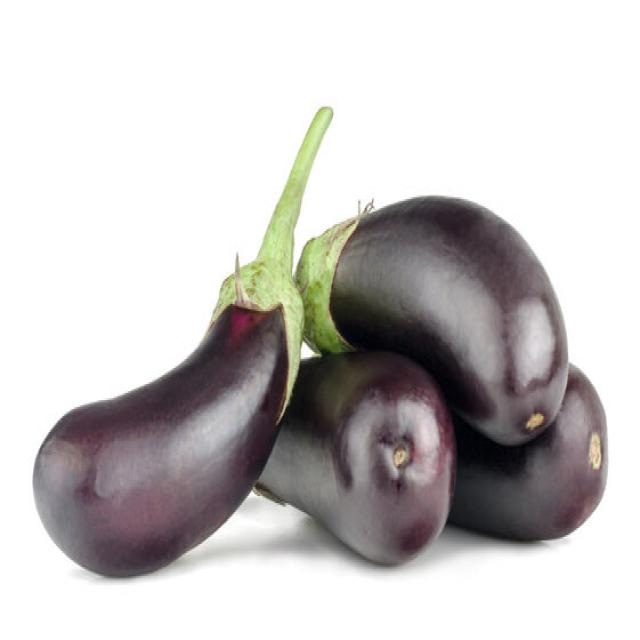Eggplant: (31, 103, 333, 578), (293, 192, 569, 446), (252, 348, 456, 566), (447, 361, 608, 540)
